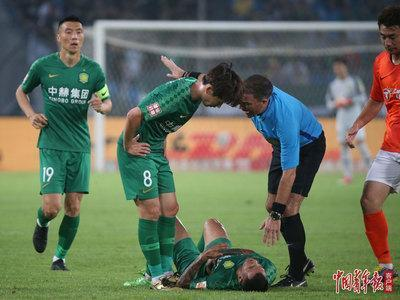Fall-Detected: (157, 207, 283, 291)
